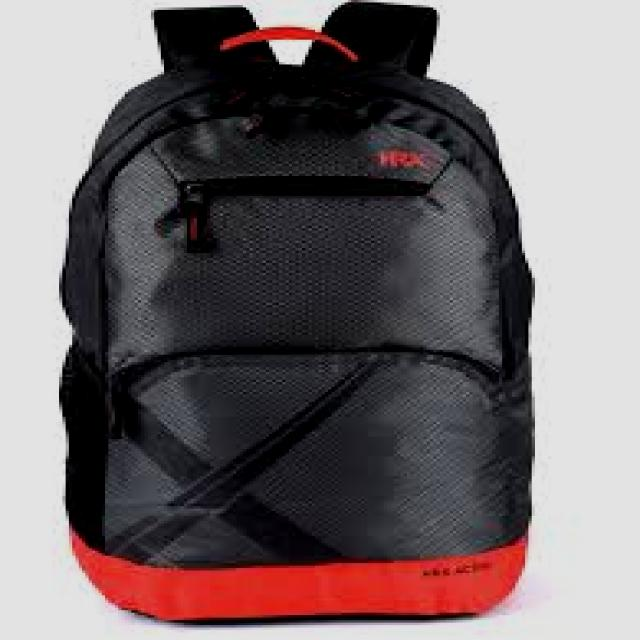backpack: (57, 2, 536, 624)
